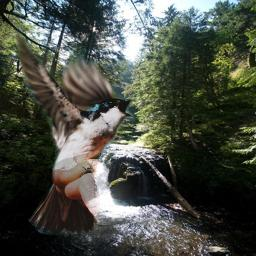Swallow: (8, 24, 135, 235)
